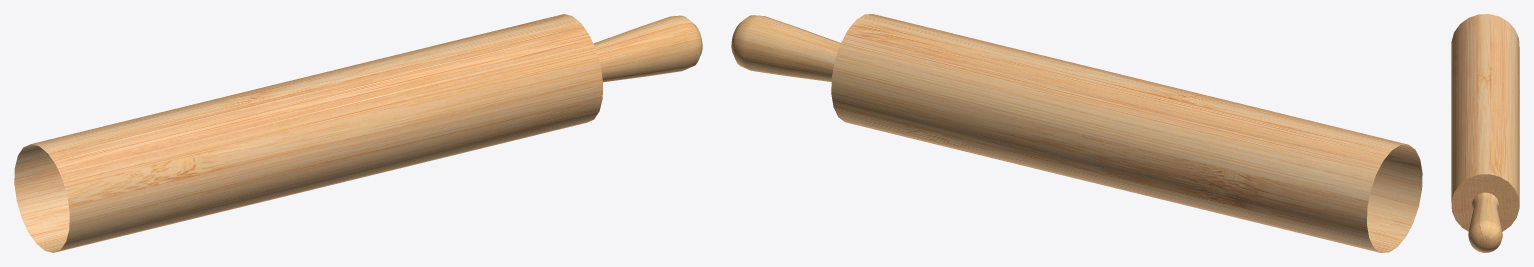
The model's file is RecipeBook_RollingPin.fbx.
3 views of the same model, side by side, from view 1: azimuth 30°, elevation 25°; view 2: azimuth 150°, elevation 25°; view 3: azimuth 270°, elevation 25° (orthographic). The views are drawn at different scales.
Parts seen in each view (by area): view 1: RecipeBook_RollingPin; view 2: RecipeBook_RollingPin; view 3: RecipeBook_RollingPin.
Boxes of the visible parts, box(x1,y1,x2,y2) form: RecipeBook_RollingPin: box(14, 14, 702, 252); RecipeBook_RollingPin: box(731, 14, 1422, 252); RecipeBook_RollingPin: box(1451, 14, 1519, 252).
Size of the model in its own units: 7.63 by 1.12 by 1.12.
1 material, 1 textured.
